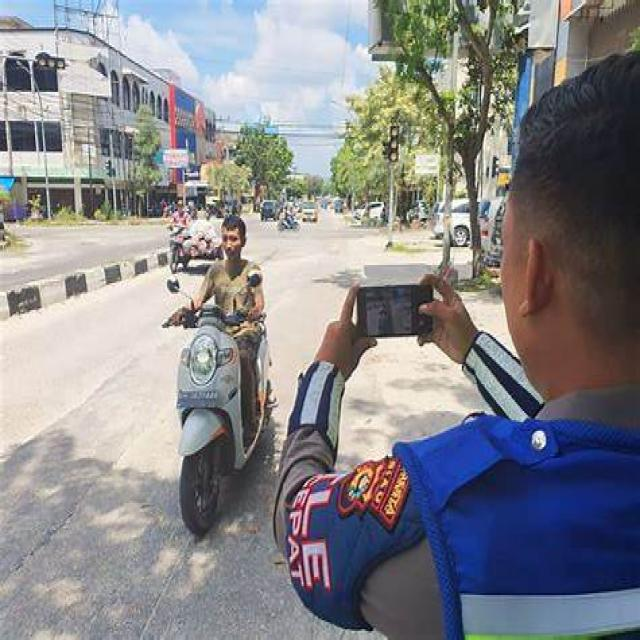Without Helmet: (215, 210, 251, 264)
